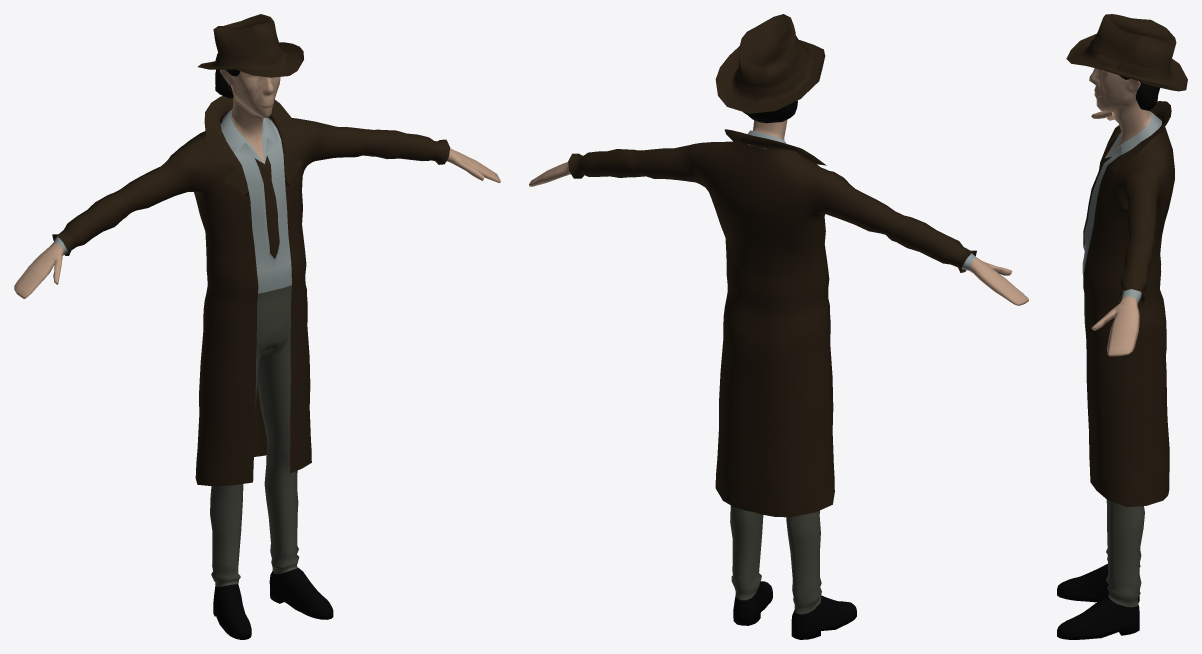
Rendered from Investigator_Model_01.fbx.
3 views of the same model, side by side, from view 1: azimuth 30°, elevation 25°; view 2: azimuth 150°, elevation 25°; view 3: azimuth 270°, elevation 25° (orthographic). The views are drawn at different scales.
Visible parts, largest first — view 1: Jacket, Body, Hat; view 2: Jacket, Body, Hat; view 3: Jacket, Body, Hat, Hair.
Part boxes in pixels (x1=…): Jacket: x1=52, y1=96, x2=450, y2=486; Body: x1=14, y1=69, x2=500, y2=639; Hat: x1=198, y1=14, x2=303, y2=77; Jacket: x1=568, y1=129, x2=976, y2=517; Body: x1=529, y1=119, x2=1028, y2=639; Hat: x1=715, y1=14, x2=825, y2=113; Jacket: x1=1083, y1=101, x2=1174, y2=507; Body: x1=1057, y1=68, x2=1161, y2=639; Hat: x1=1066, y1=14, x2=1187, y2=91; Hair: x1=1119, y1=75, x2=1159, y2=110.
Bounding box in the file's own units: 18.22 × 21.31 × 4.22.
